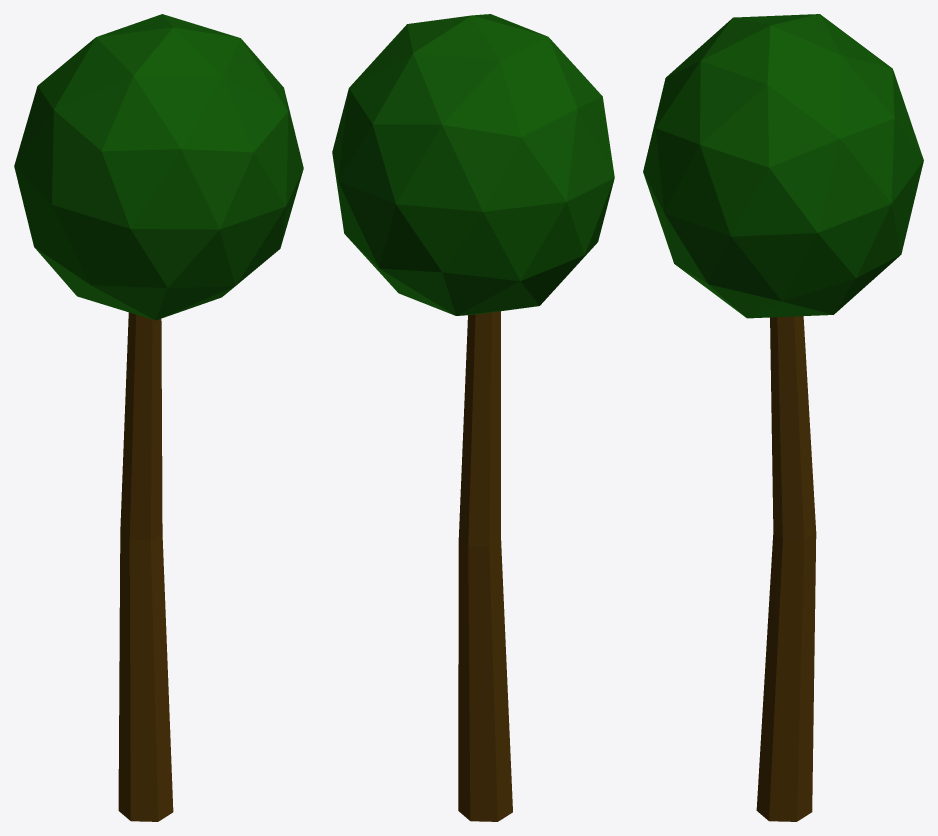
File: SmallTree.glb
3 views of the same model, side by side, from view 1: azimuth 30°, elevation 25°; view 2: azimuth 150°, elevation 25°; view 3: azimuth 270°, elevation 25° (orthographic).
Parts seen in each view (by area): view 1: Cylinder.005; view 2: Cylinder.005; view 3: Cylinder.005.
Part boxes in pixels (x1,y1,x2,y2): Cylinder.005: (14, 14, 303, 821); Cylinder.005: (332, 14, 614, 821); Cylinder.005: (643, 14, 923, 821).
Size of the model in its own units: 0.281 by 0.8485 by 0.2713.
